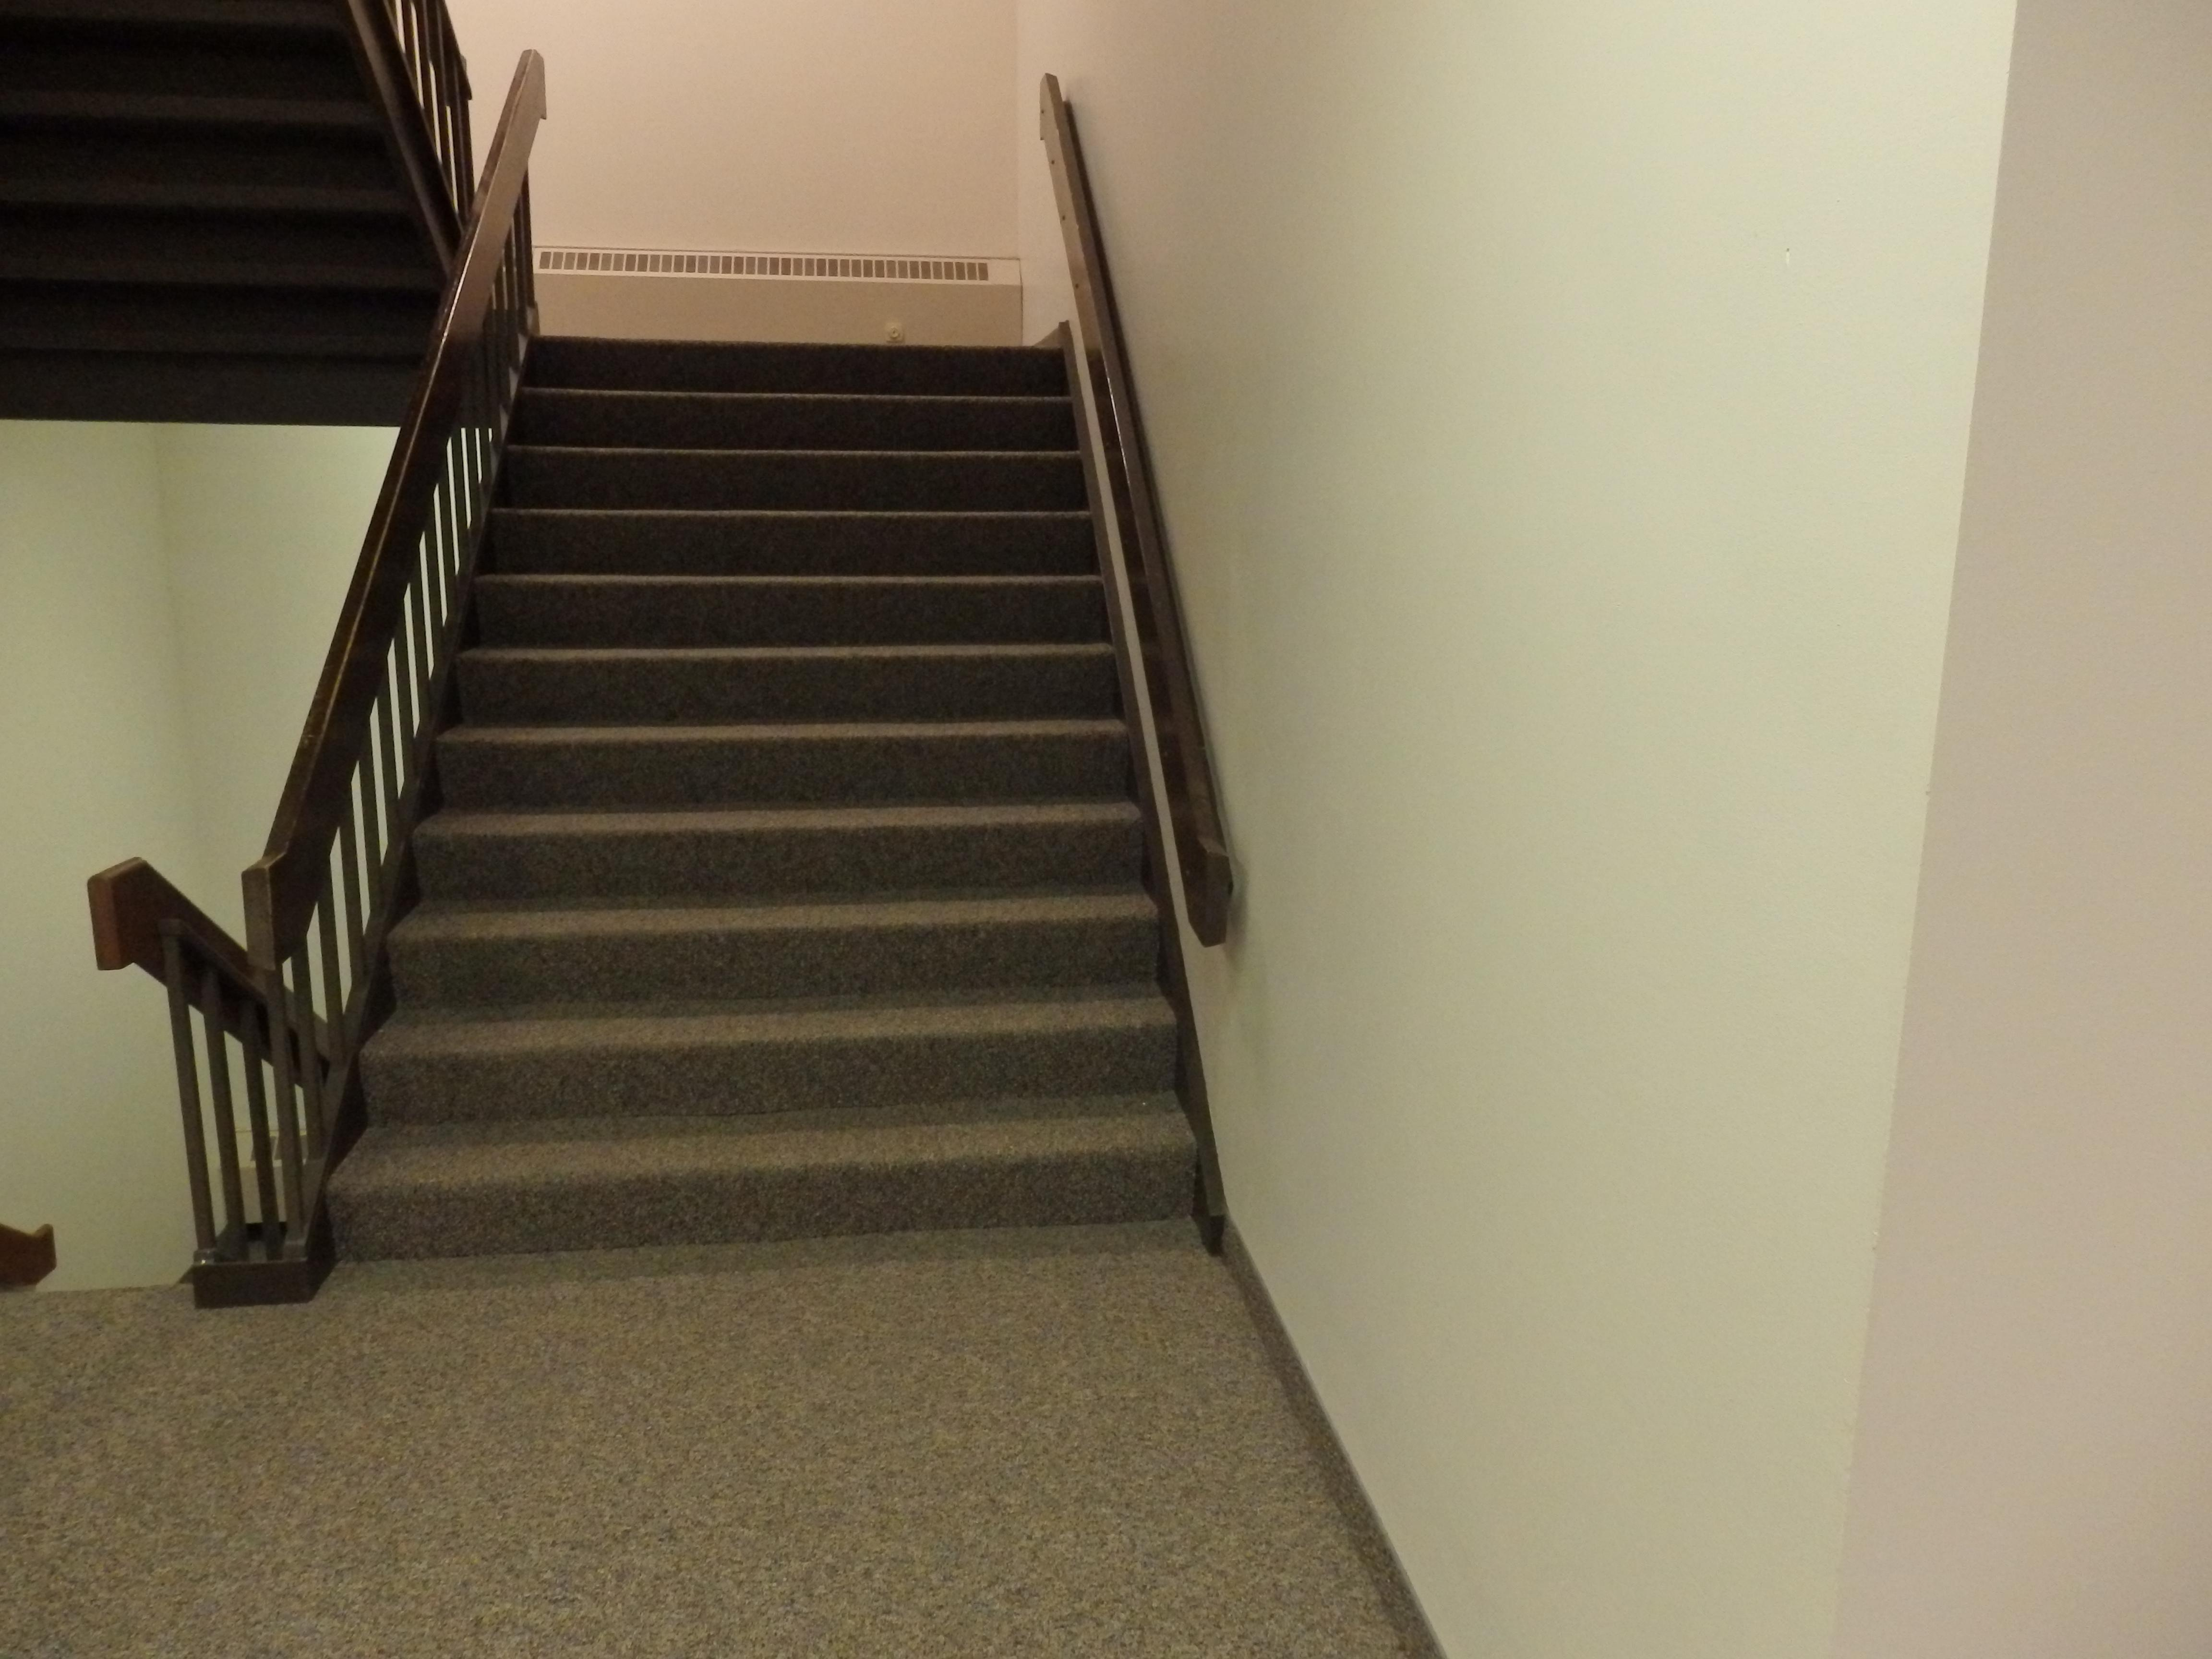stairs_up: (474, 312, 1144, 1256)
